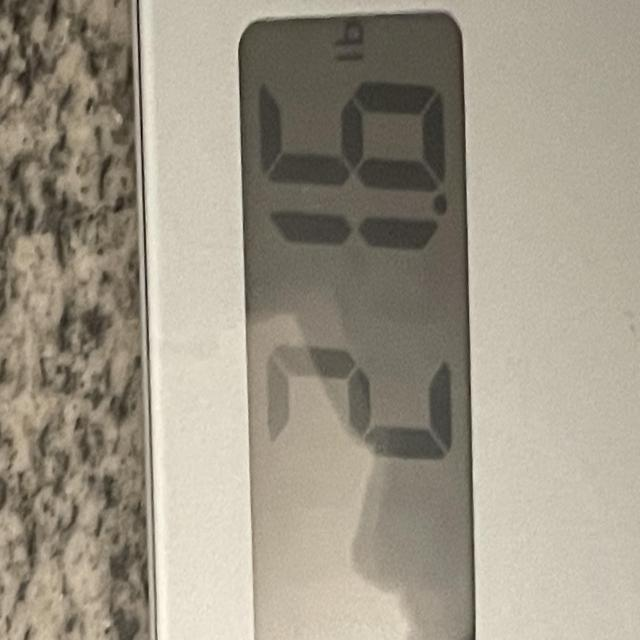ws: (157, 9, 477, 640)
